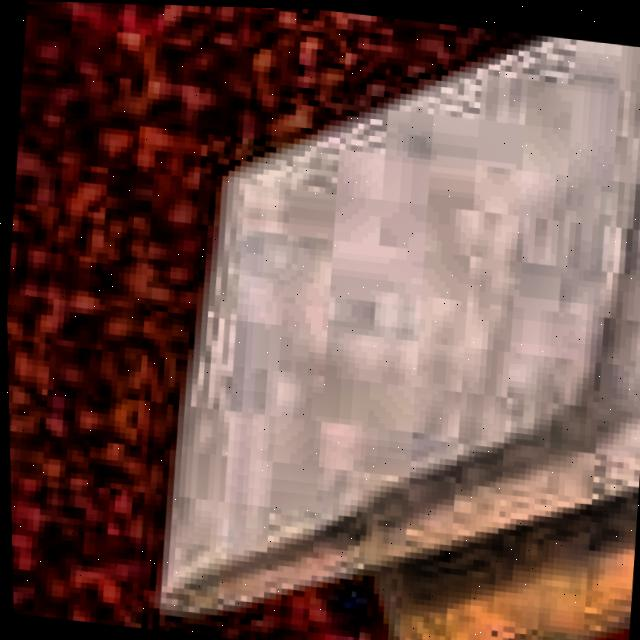paper: (158, 29, 640, 640)
